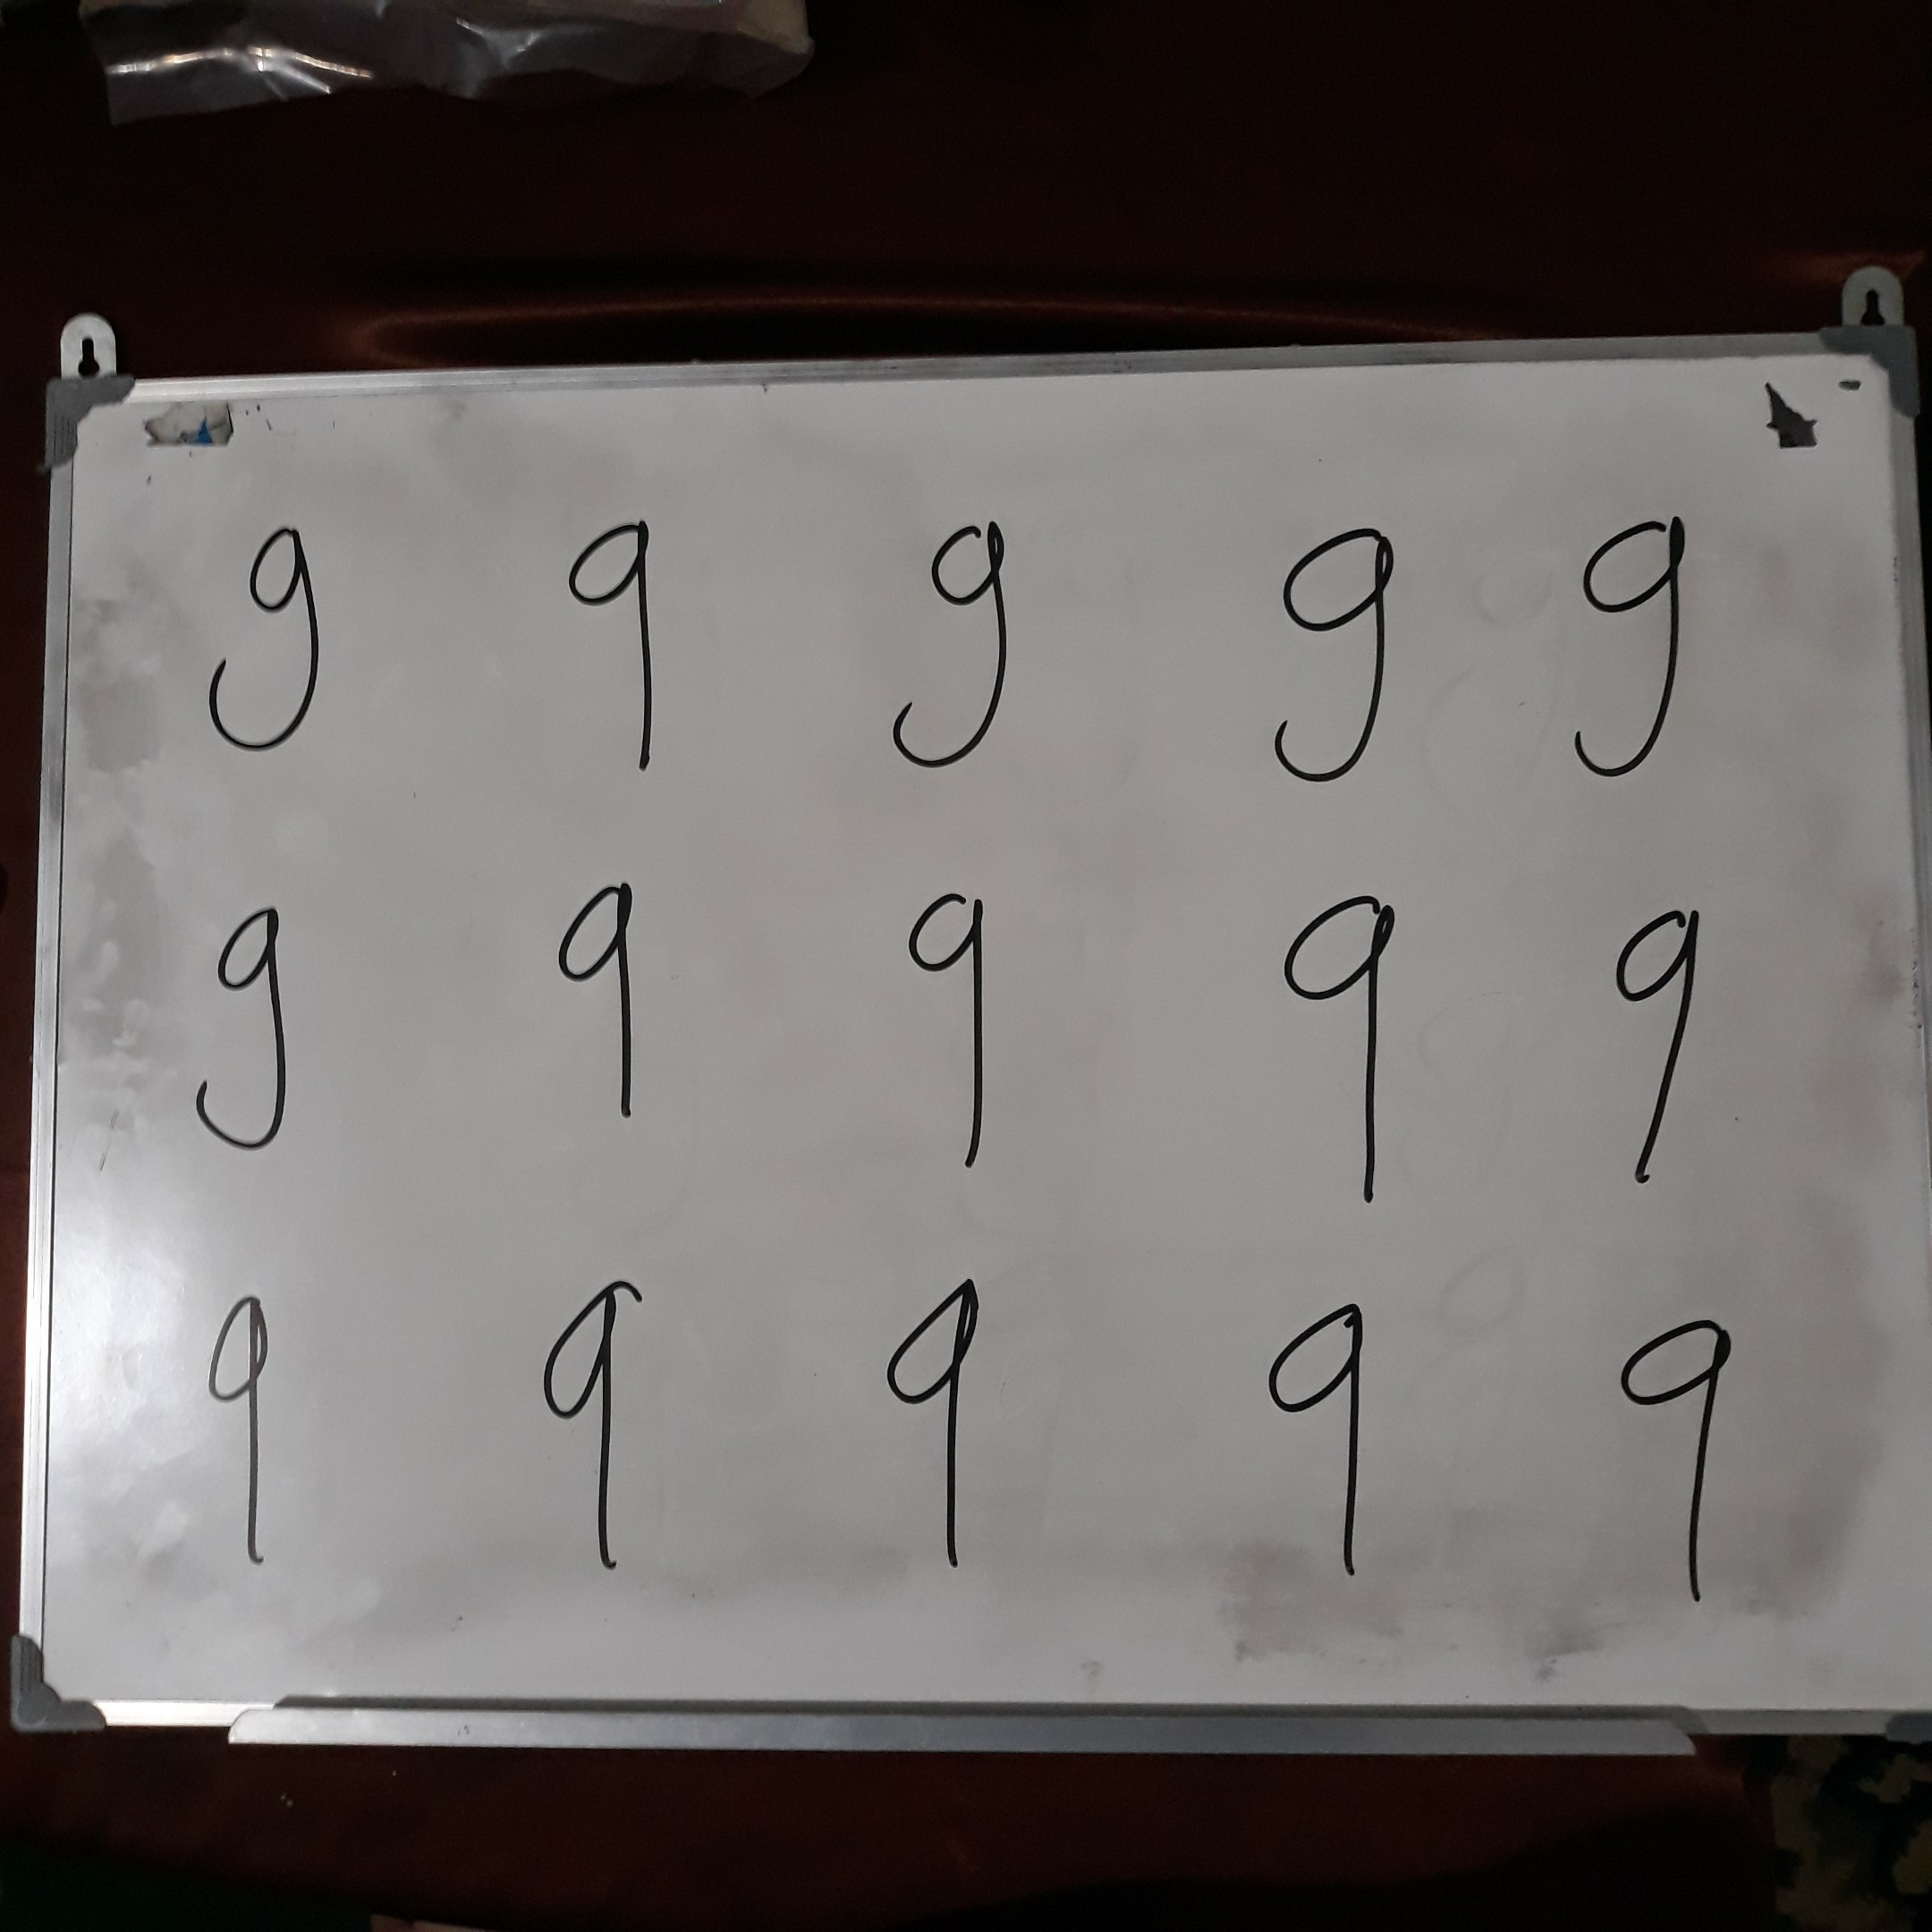num9: (1597, 1300, 1752, 1613), (1258, 1264, 1402, 1590), (1271, 882, 1407, 1214), (1586, 882, 1722, 1195), (872, 1262, 1001, 1587), (1260, 515, 1403, 797), (1560, 500, 1696, 787), (880, 501, 1025, 770), (531, 1261, 648, 1583), (192, 502, 332, 759), (896, 884, 1020, 1177), (179, 1274, 299, 1570), (554, 515, 679, 787), (179, 901, 306, 1158), (540, 875, 665, 1126)
